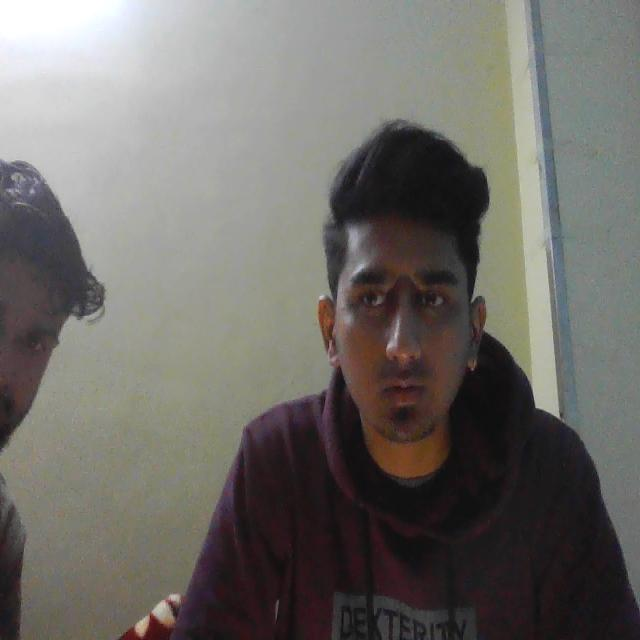real: (320, 141, 495, 472)
